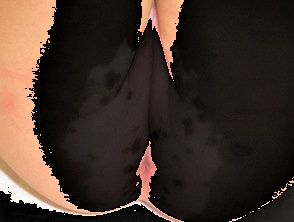vitiligo: (44, 0, 240, 222)
